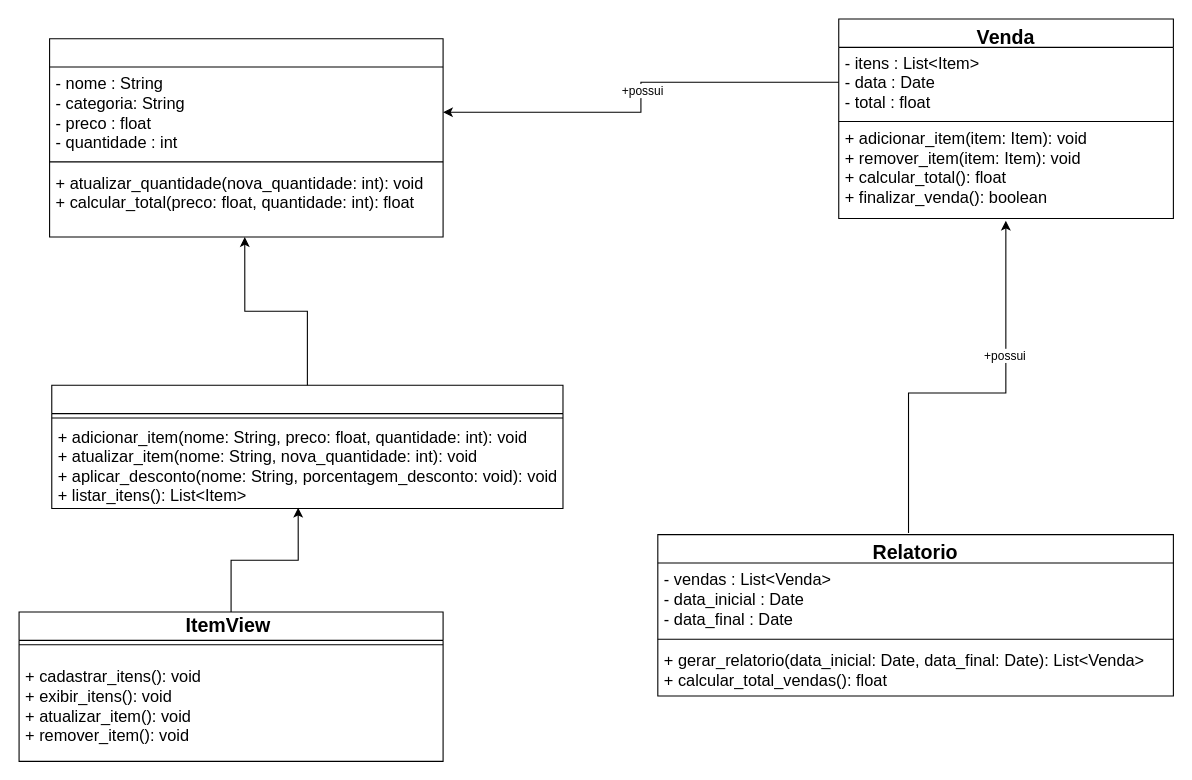
Some shapes in this 1192 by 780 pixel diagram are drawn without their labels. The shapes that lost their labels are listed below. From the top down, each one's box as (x1, y1, x2, y2) in pixels, then its label:
(49, 38, 443, 237): Item
(51, 384, 563, 508): ItemController
